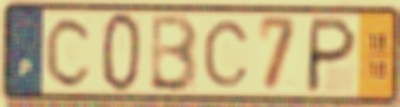0: (100, 10, 144, 95)
7: (255, 15, 302, 95)
B: (147, 11, 200, 95)
C: (43, 14, 95, 90), (201, 18, 252, 90)
P: (302, 14, 360, 95)
